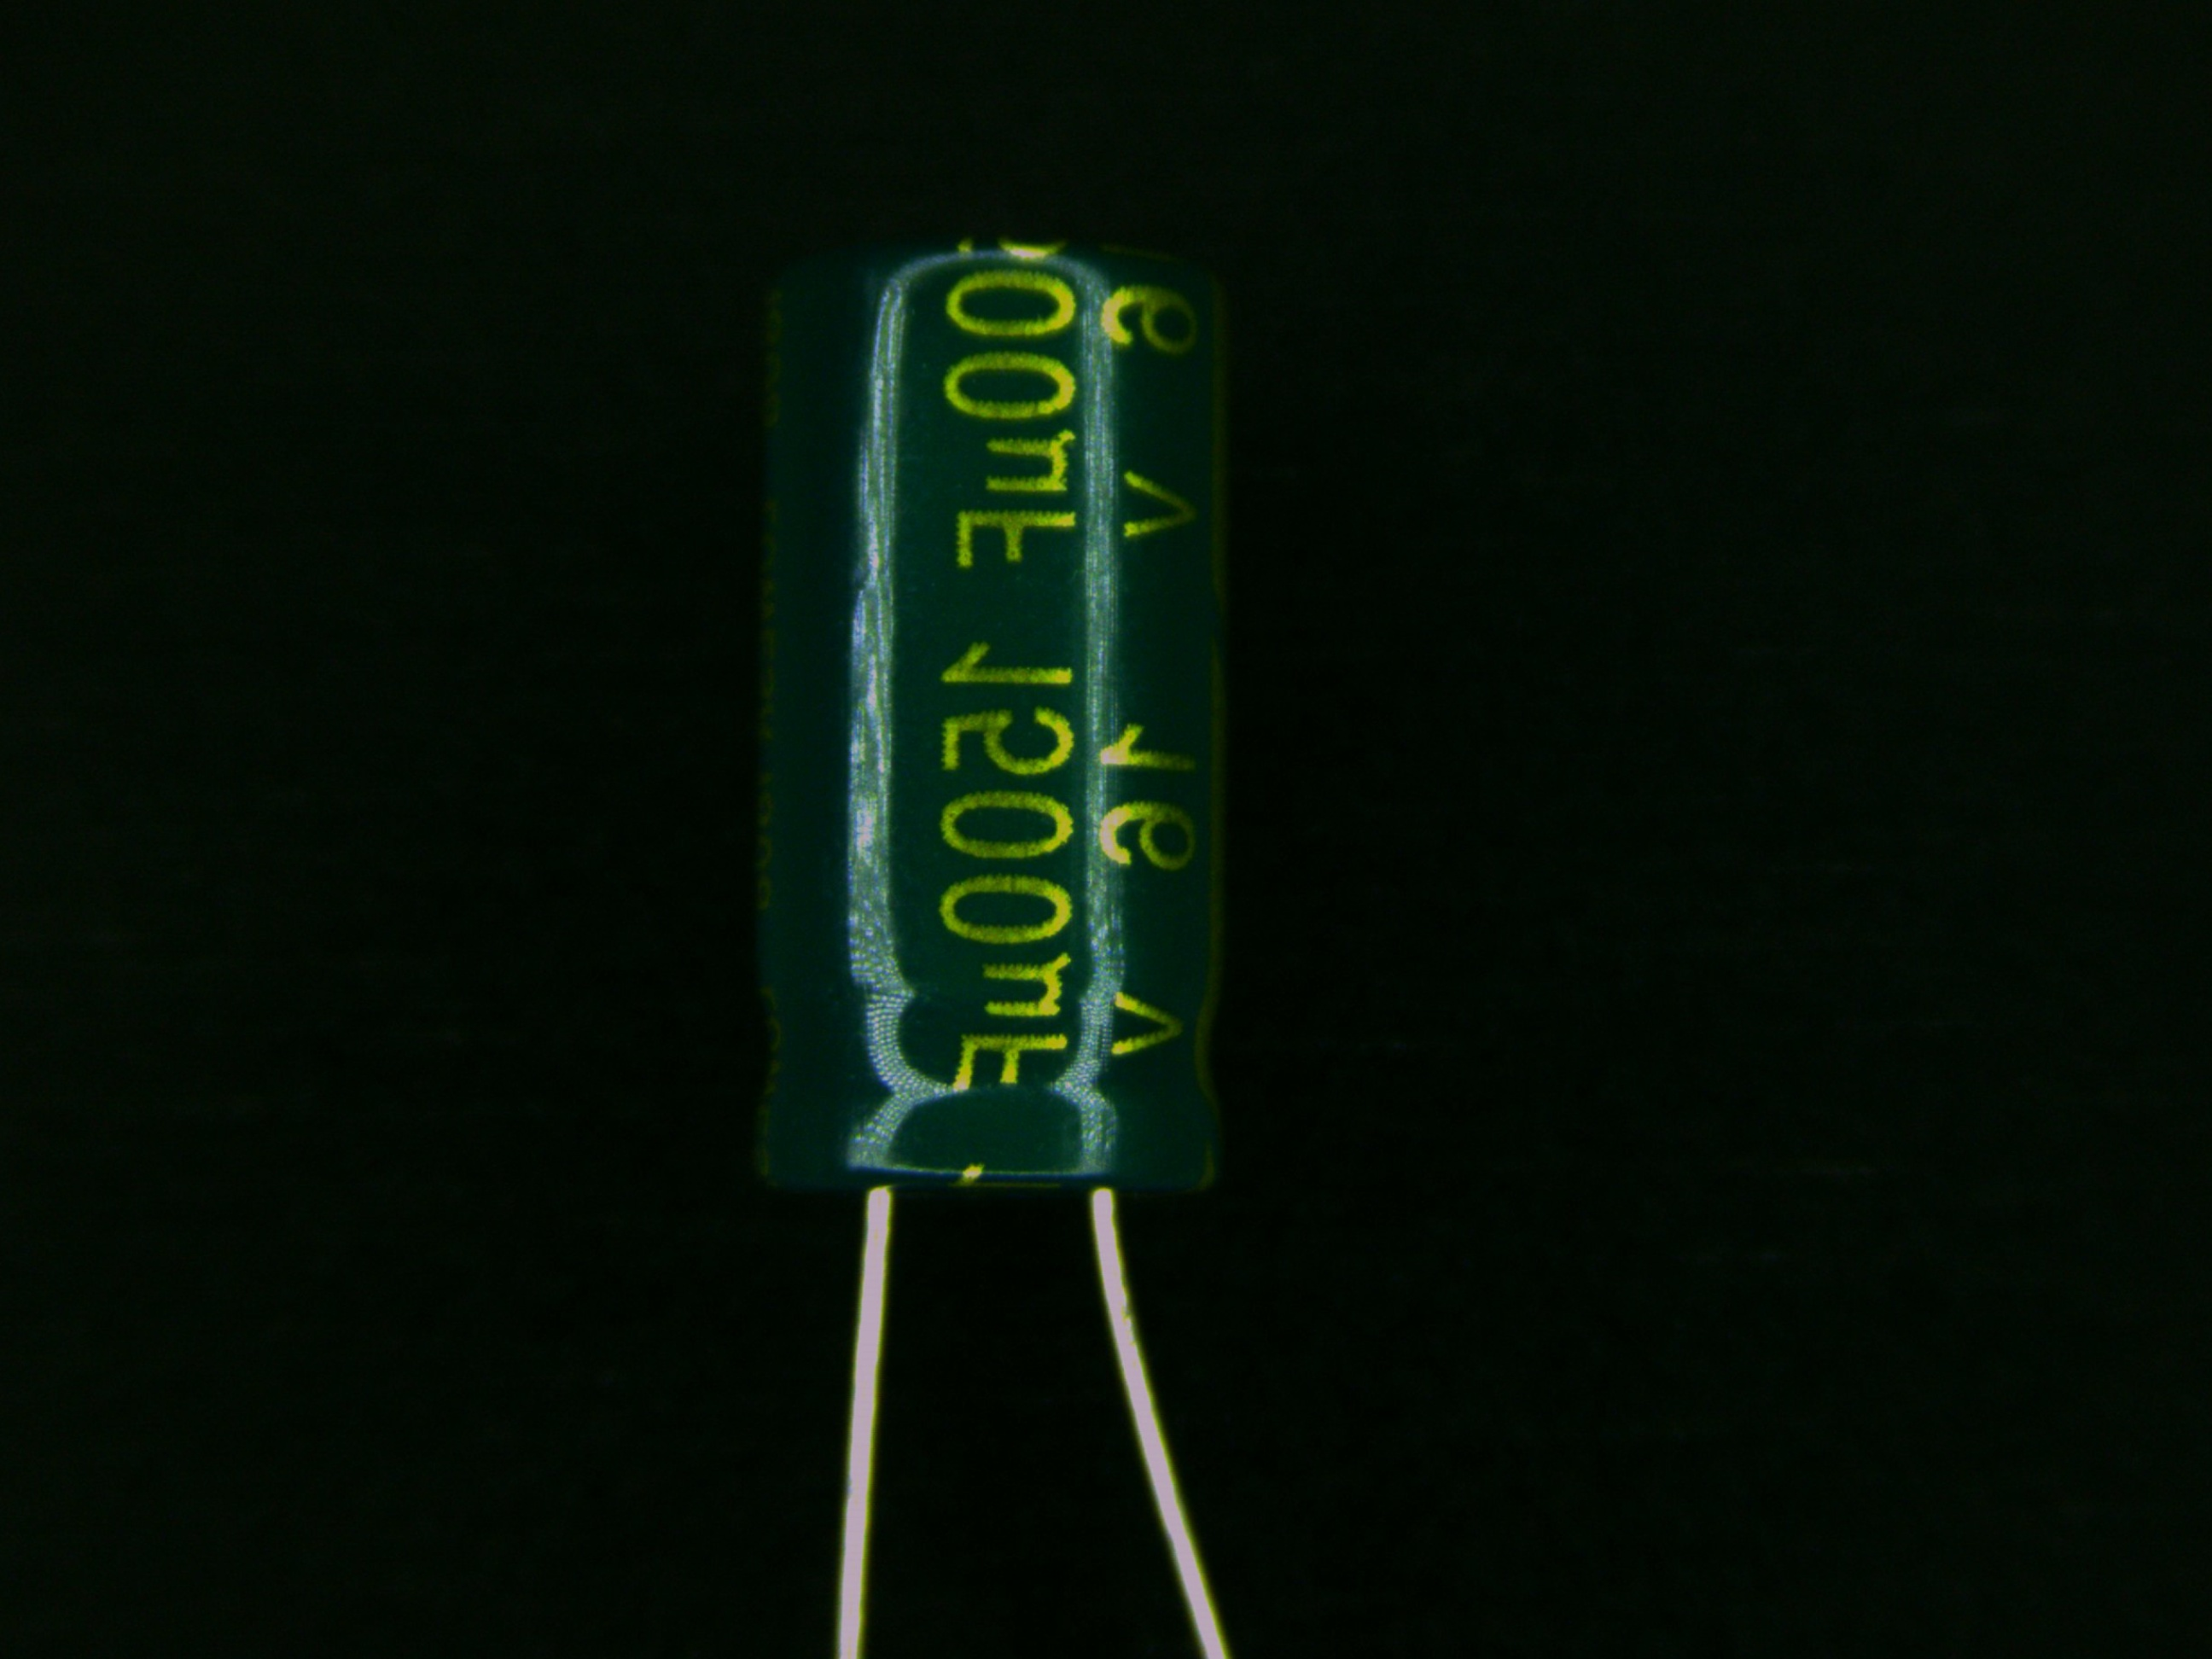c1: (740, 230, 1240, 1333)
